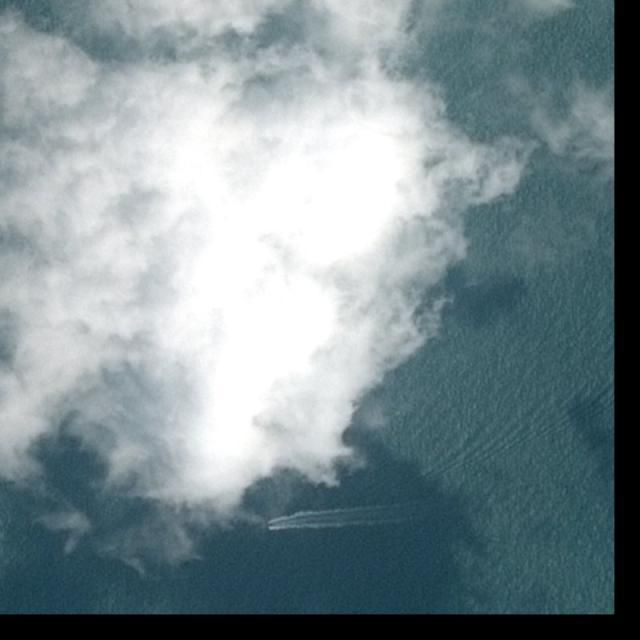ship: (265, 522, 276, 526)
